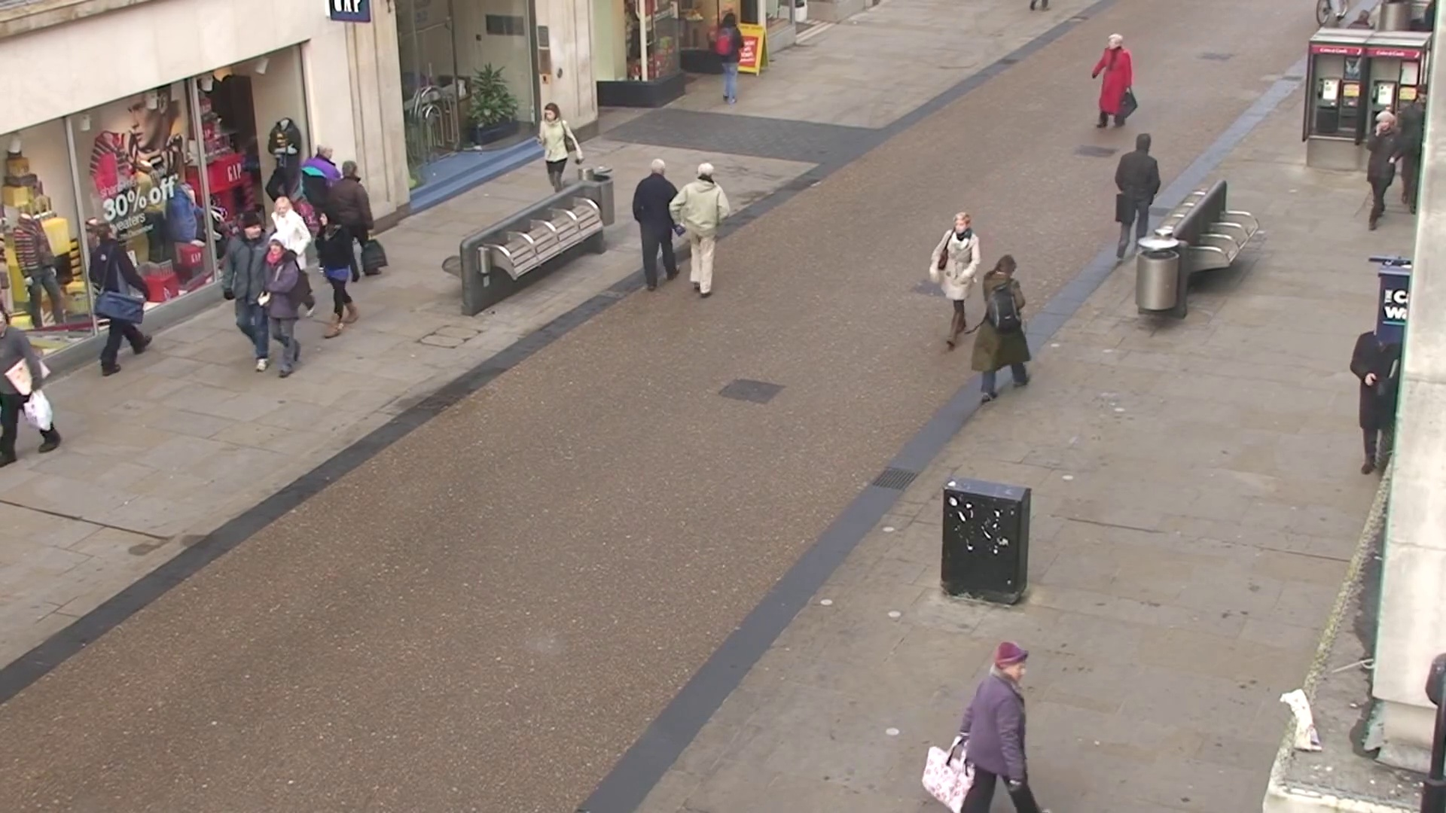person: (953, 641, 1037, 813), (90, 228, 153, 377), (0, 296, 56, 462), (971, 252, 1033, 401), (221, 215, 272, 369), (259, 227, 311, 378), (671, 164, 729, 299), (1349, 326, 1400, 477), (1112, 132, 1164, 266), (930, 212, 981, 346), (632, 159, 679, 290), (313, 214, 361, 332), (325, 161, 375, 274), (1362, 109, 1400, 228), (1092, 35, 1135, 129), (538, 99, 580, 193)
